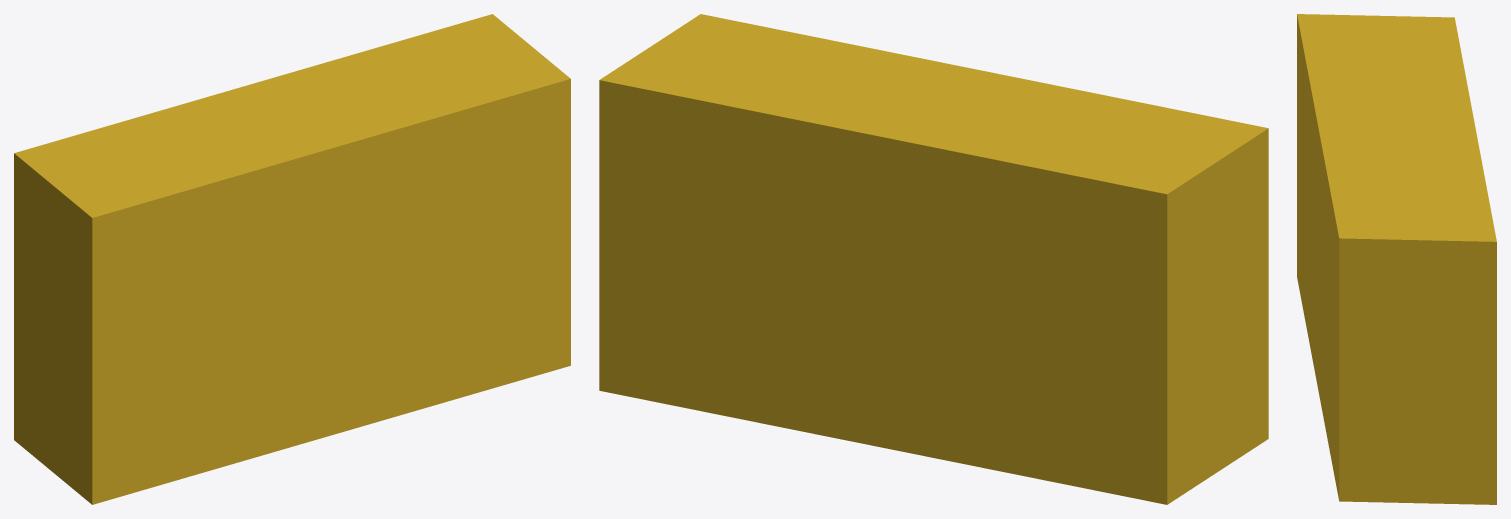
Rendered from Gum.fbx.
3 views of the same model, side by side, from view 1: azimuth 30°, elevation 25°; view 2: azimuth 150°, elevation 25°; view 3: azimuth 270°, elevation 25° (orthographic). The views are drawn at different scales.
Parts seen in each view (by area): view 1: Gum; view 2: Gum; view 3: Gum.
Part boxes in pixels (bbox=[...]): Gum: bbox=[14, 14, 570, 504]; Gum: bbox=[599, 14, 1268, 504]; Gum: bbox=[1297, 14, 1496, 504].
Size of the model in its own units: 5.99 by 3.22 by 2.22.
